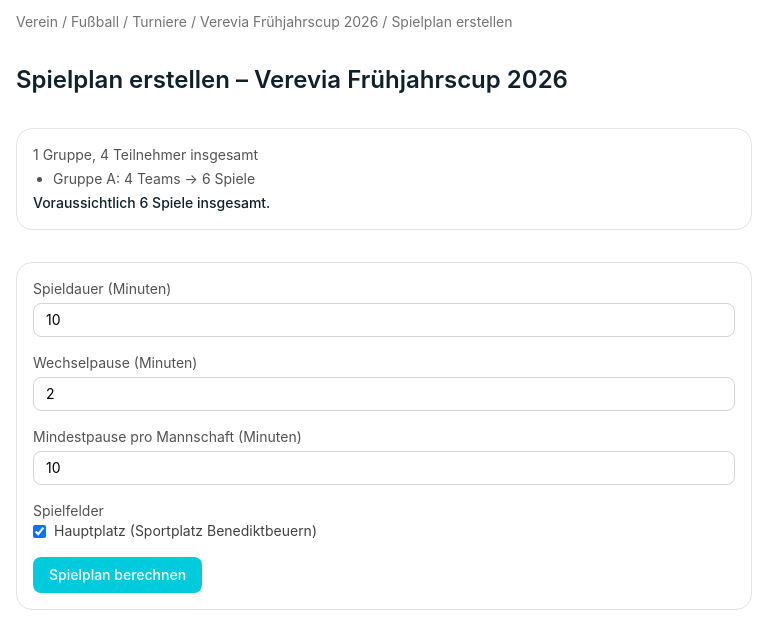
Test case: TournamentScheduleGenerator › disables the submit button when no venue is selected
Click the checkbox at (40, 531), box left=33, top=524, right=46, bottom=538
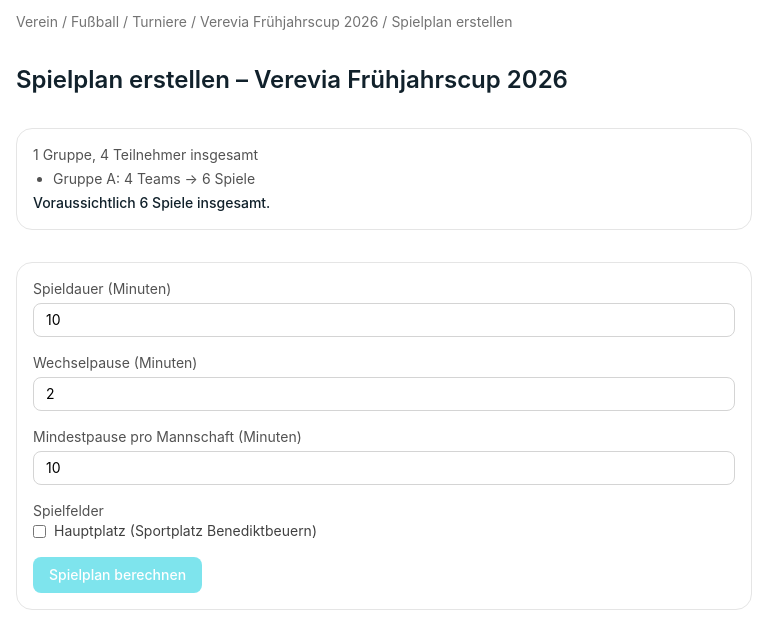
Now the button "Spielplan berechnen" is disabled, box left=33, top=557, right=202, bottom=593
